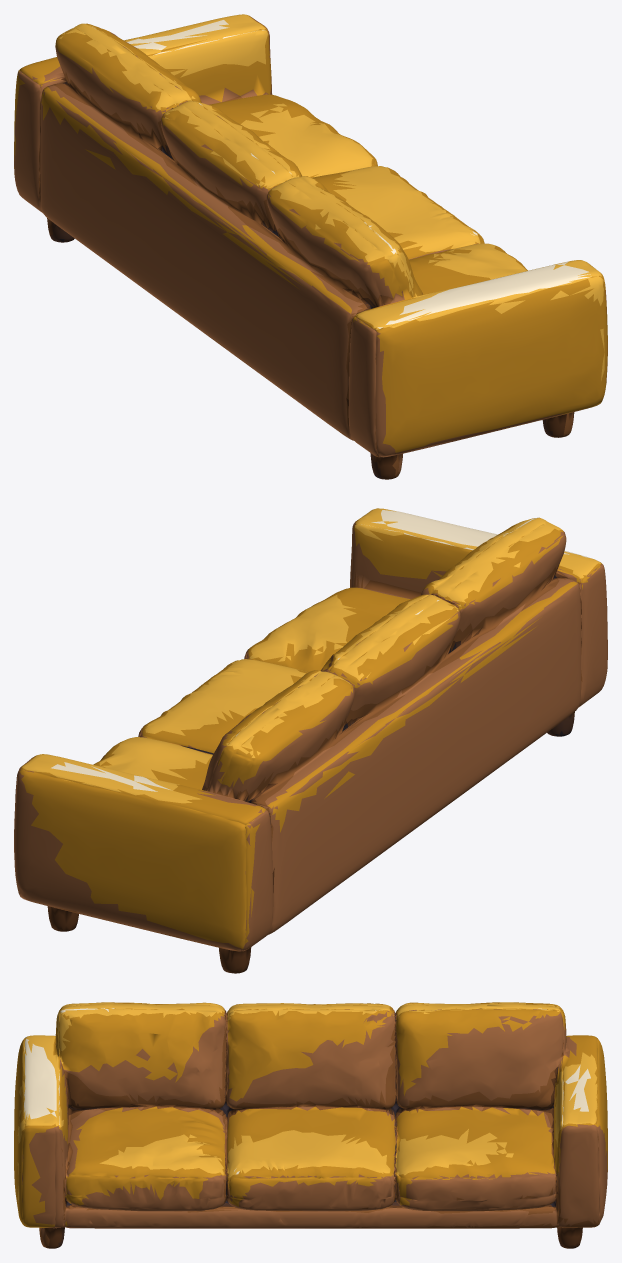
The model's file is SM_sofa_3seat_tan.glb.
The picture shows the model from 3 angles, top to bottom: view 1: azimuth 30°, elevation 25°; view 2: azimuth 150°, elevation 25°; view 3: azimuth 270°, elevation 25°; orthographic projection. The views are drawn at different scales.
Parts seen in each view (by area): view 1: SM_sofa_3seat_tan; view 2: SM_sofa_3seat_tan; view 3: SM_sofa_3seat_tan.
Boxes of the visible parts, x1,y1,x2,y2 form: SM_sofa_3seat_tan: (14, 14, 607, 479); SM_sofa_3seat_tan: (14, 508, 607, 973); SM_sofa_3seat_tan: (14, 1002, 607, 1248).
Bounding box in the file's own units: 1.01 × 0.85 × 2.58.
1 material, 1 textured.
